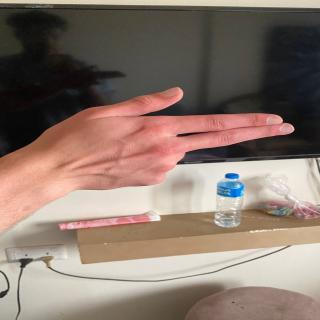GHAYN: (37, 81, 313, 200)
